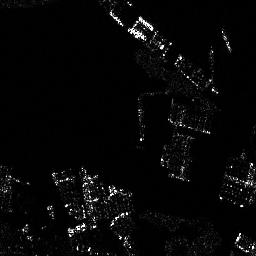ship: (135, 96, 147, 141), (221, 25, 231, 51)
